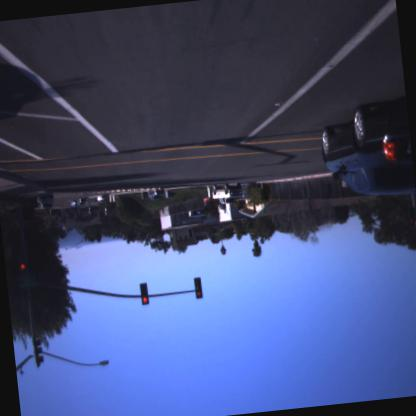trafficlight: (13, 256, 32, 288), (138, 280, 150, 306), (193, 276, 204, 300)
